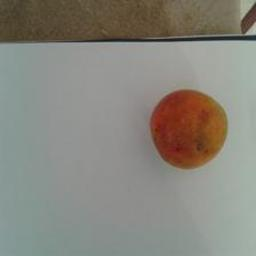Mango Semifresh: (136, 75, 235, 181)
